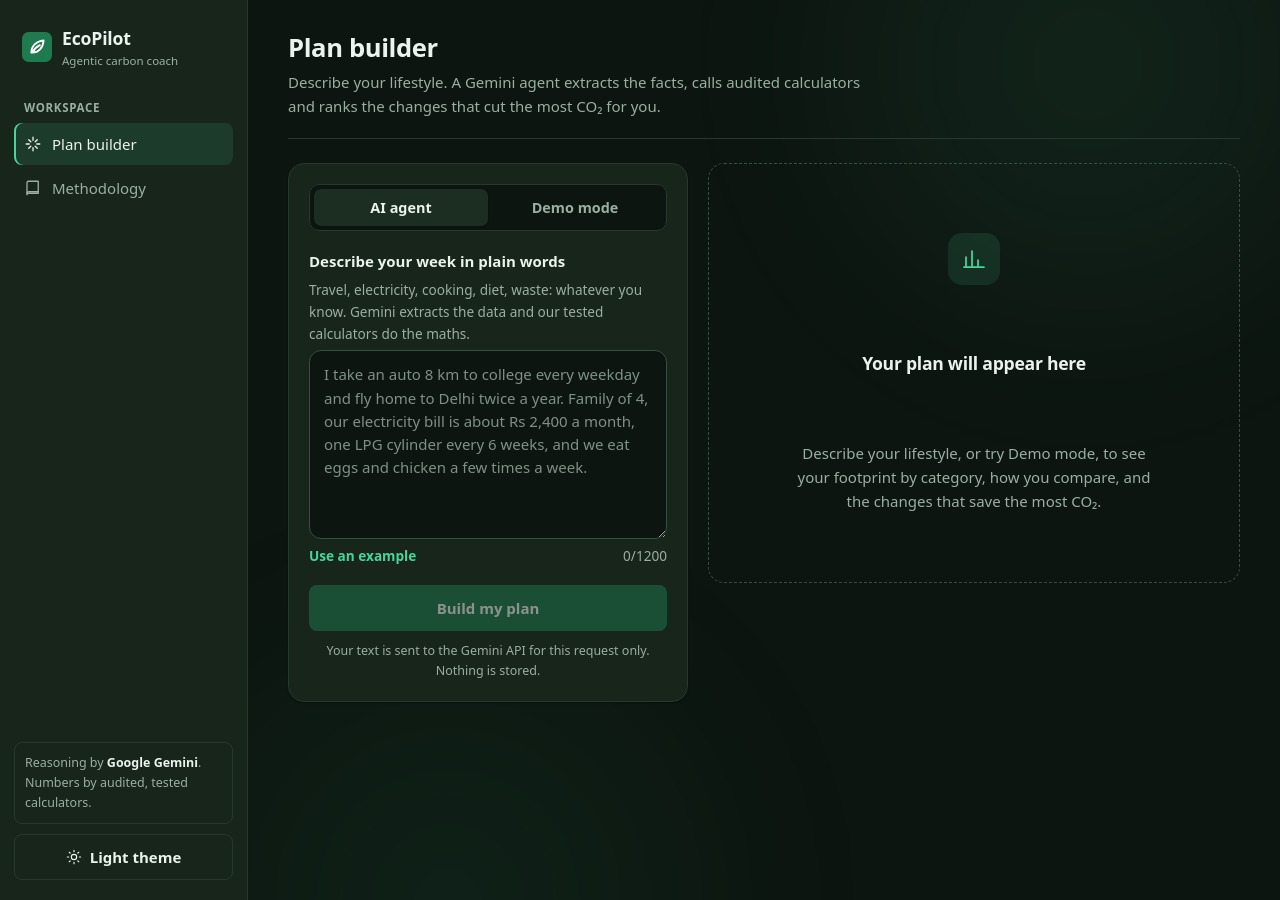
Test case: App › handles network failures
The image size is (1280, 900).
Click the button "Use an example" at (363, 556), box top-left (309, 545), bottom-right (416, 567)
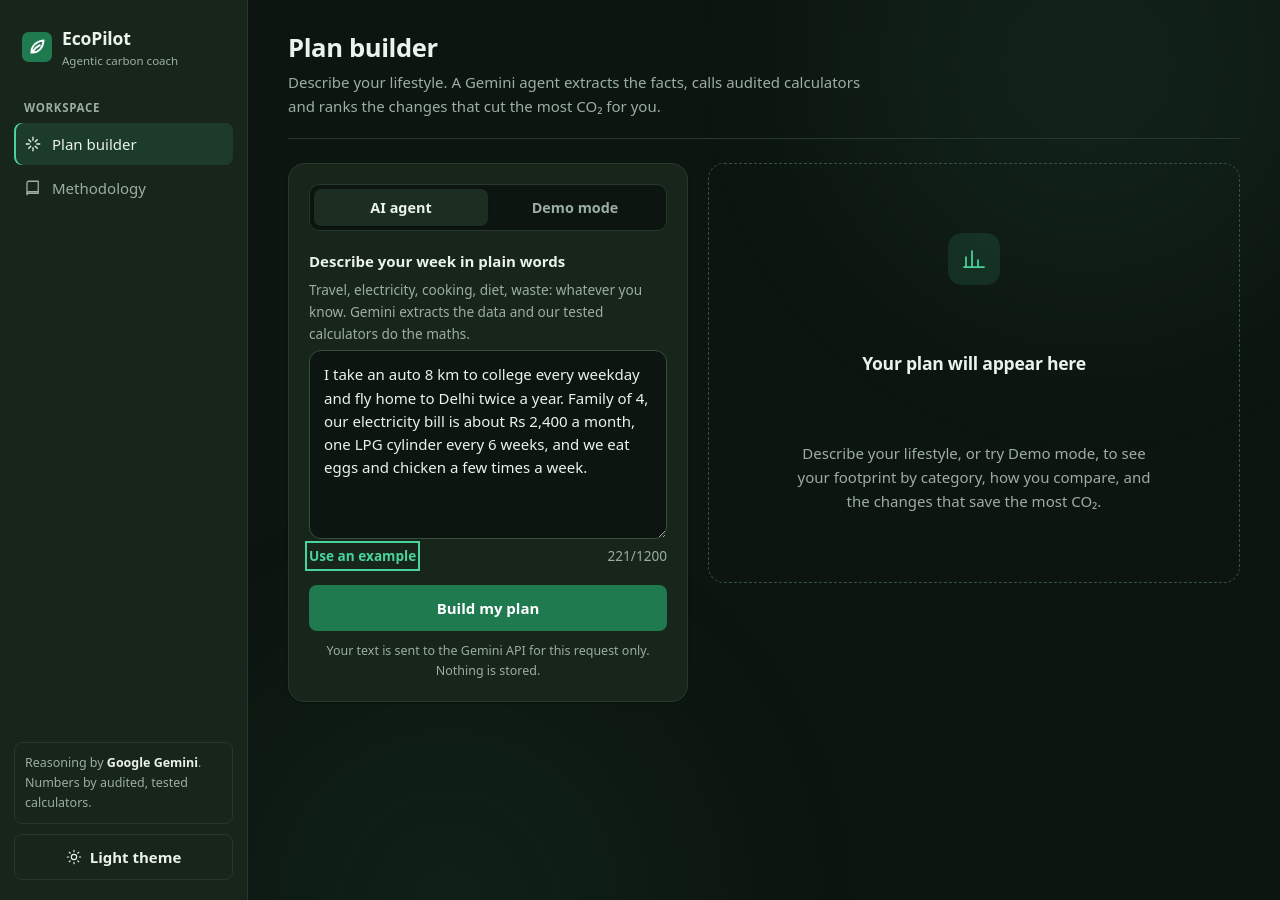
Click the button "Build my plan" at (488, 608), box top-left (309, 585), bottom-right (667, 631)
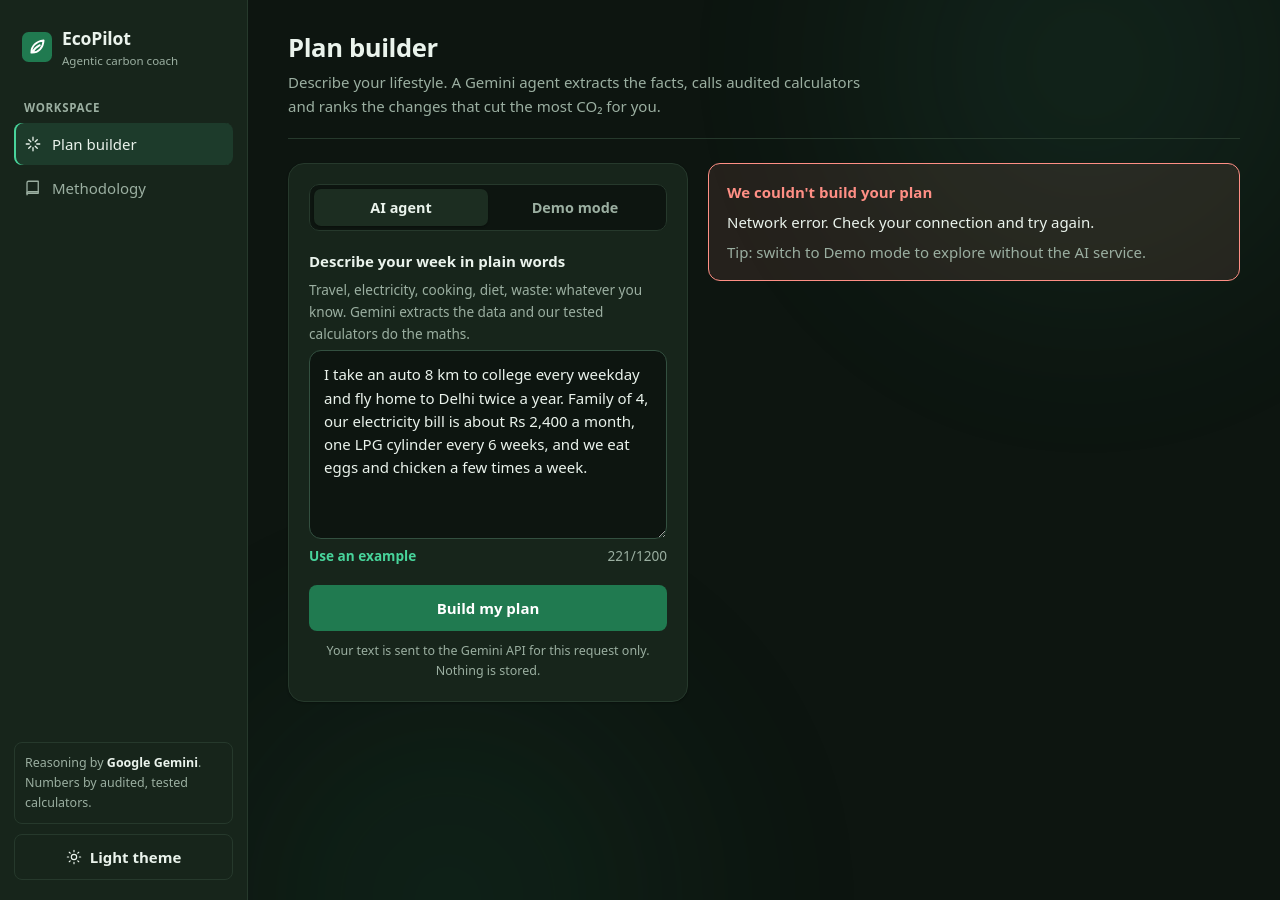
Check: the message shows "Network error", box top-left (727, 212), bottom-right (1094, 232)
